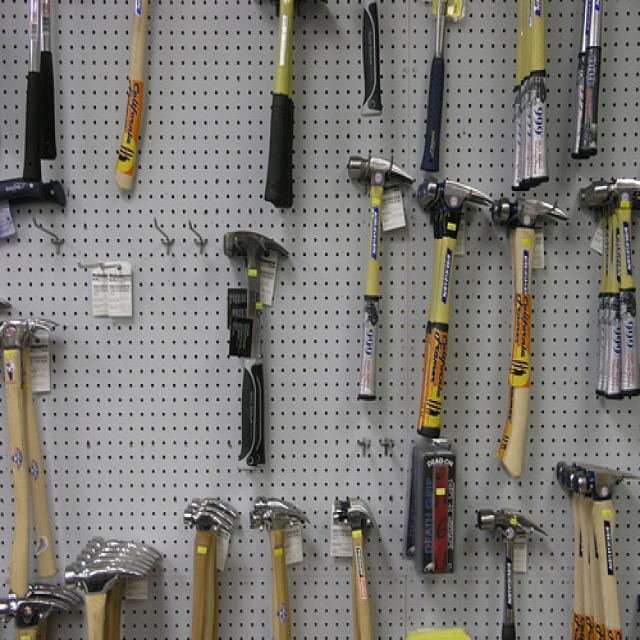hammer: (334, 128, 406, 433), (549, 440, 640, 640), (318, 488, 400, 640), (470, 496, 550, 640), (243, 491, 316, 640), (176, 483, 236, 640)
